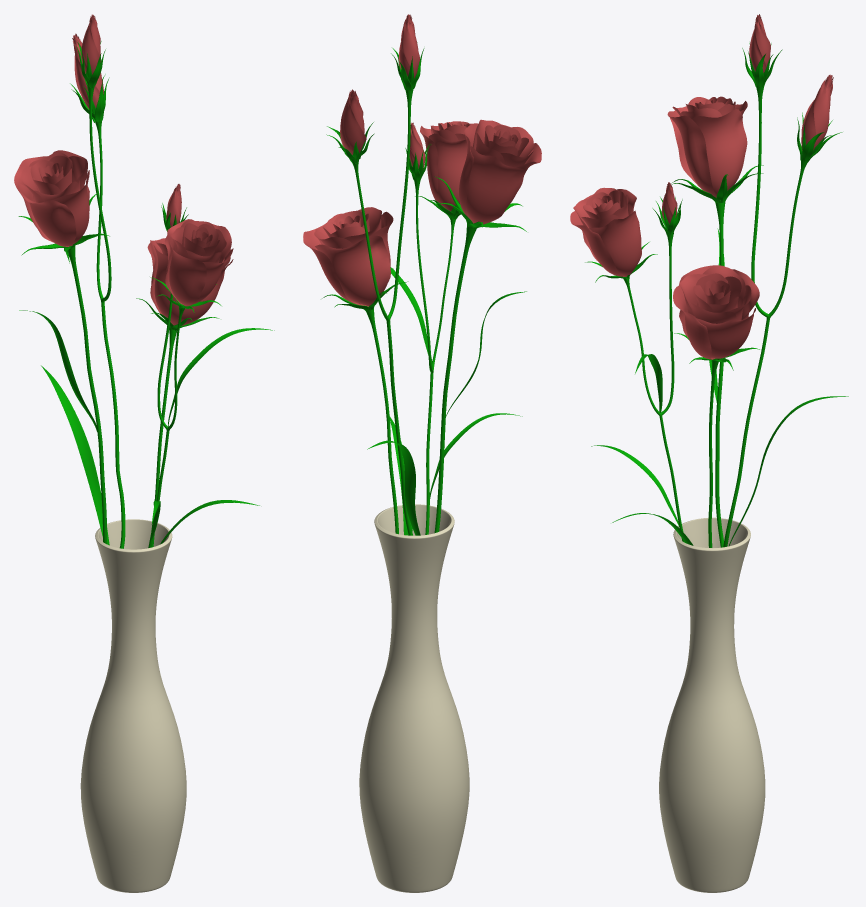
Rendered from tableflowers.fbx.
The picture shows the model from 3 angles, left to right: view 1: azimuth 30°, elevation 25°; view 2: azimuth 150°, elevation 25°; view 3: azimuth 270°, elevation 25°; orthographic projection. The views are drawn at different scales.
Visible parts, largest first — view 1: Roses_yellow:Bud1; view 2: Roses_yellow:Bud1; view 3: Roses_yellow:Bud1.
Part boxes in pixels (left/top/right/bottom): Roses_yellow:Bud1: left=14, top=14, right=274, bottom=892; Roses_yellow:Bud1: left=303, top=14, right=541, bottom=892; Roses_yellow:Bud1: left=570, top=14, right=848, bottom=892.
Bounding box in the file's own units: 2.44 × 9.13 × 2.72.
